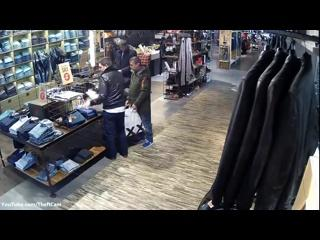Normal: (114, 38, 137, 89)
shoplifting: (85, 56, 128, 160), (125, 56, 154, 148)
